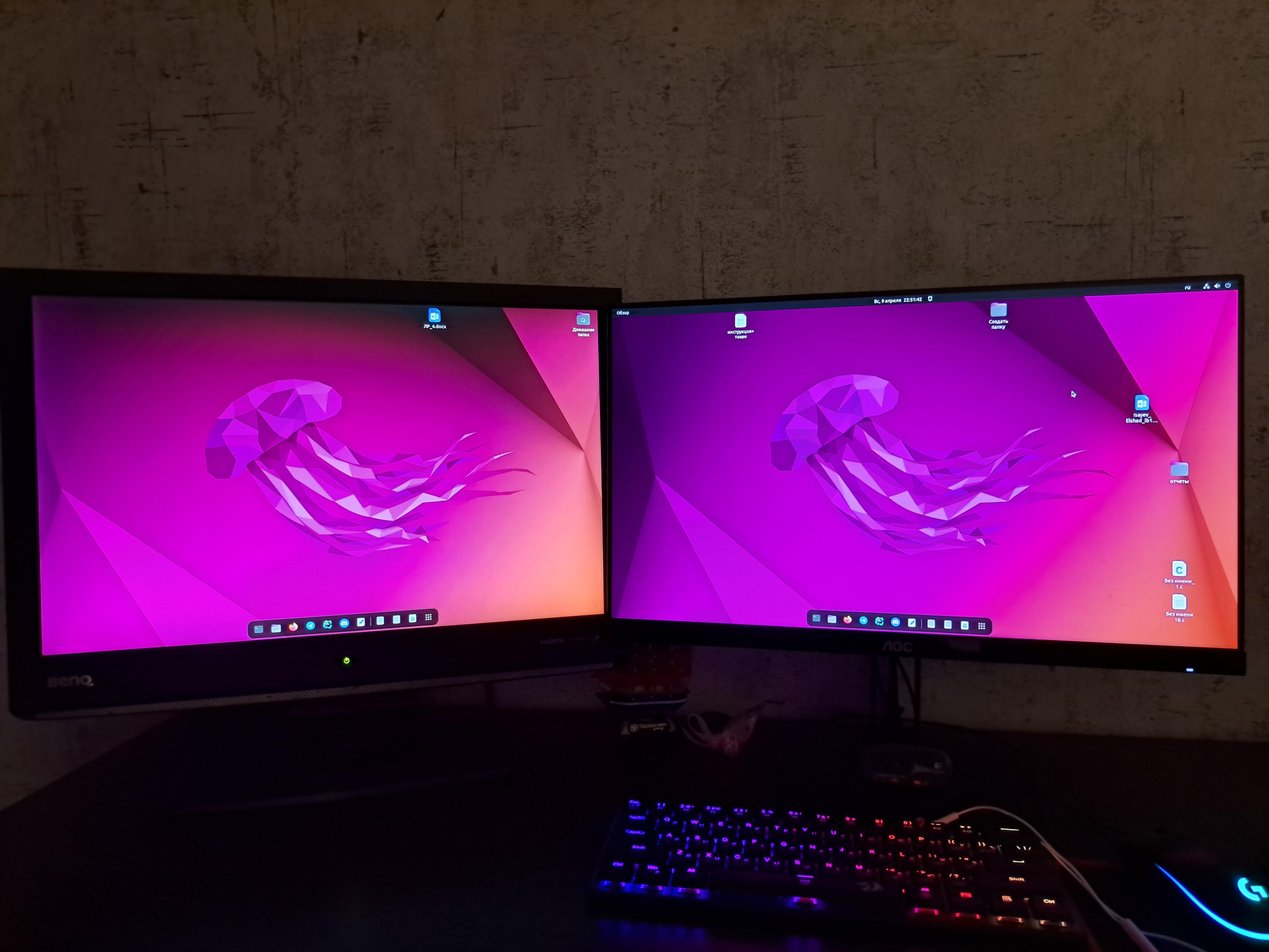monitor: (0, 264, 634, 726), (591, 266, 1251, 670)
